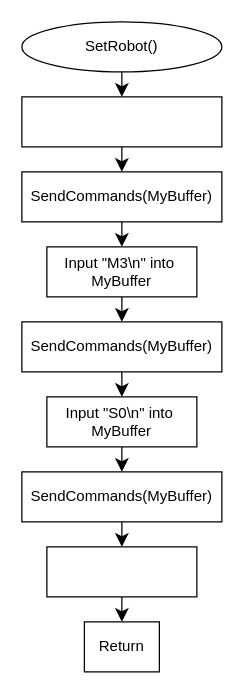
The diagram is 244 pixels wide and 694 high, and some of its shapes have lost their labels. Each missing label, with the centre of its shape:
Call SetNewLine(): point 121,571
Input "G1 X0 Y0 F1000\n" into MyBuffer: point 121,121
